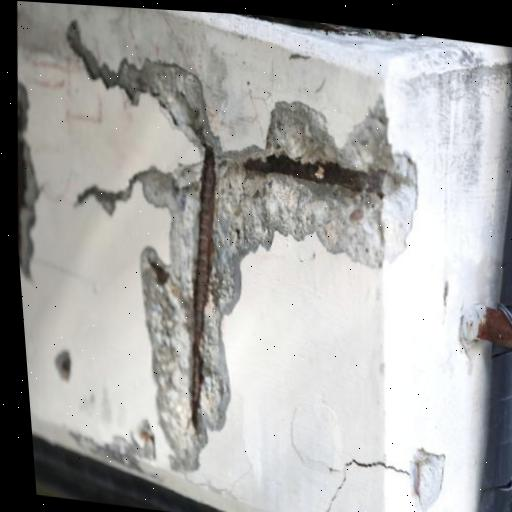exposed_rebar: (191, 146, 216, 431), (244, 154, 385, 198)
spalling: (69, 21, 416, 472), (68, 420, 155, 470), (18, 81, 39, 277), (412, 448, 445, 512), (55, 350, 72, 382)
